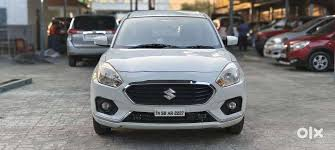Swift: (93, 12, 248, 137)
